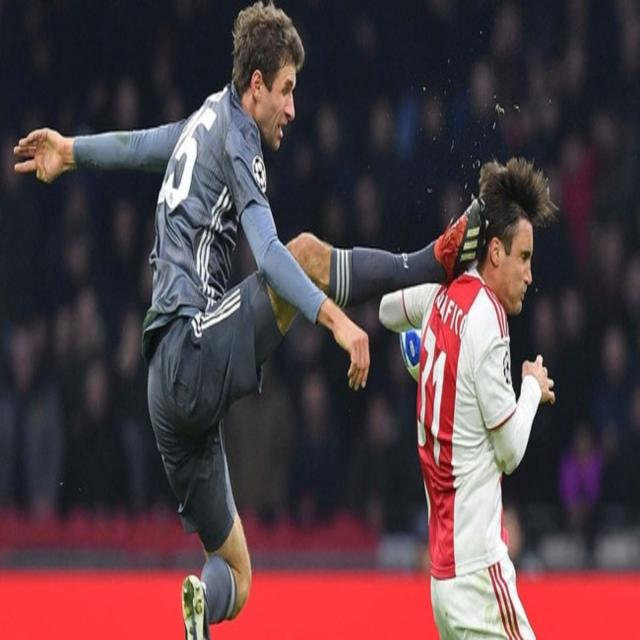collide: (447, 184, 485, 286)
like-hurt: (510, 217, 533, 321)
red_card: (128, 0, 588, 640)
